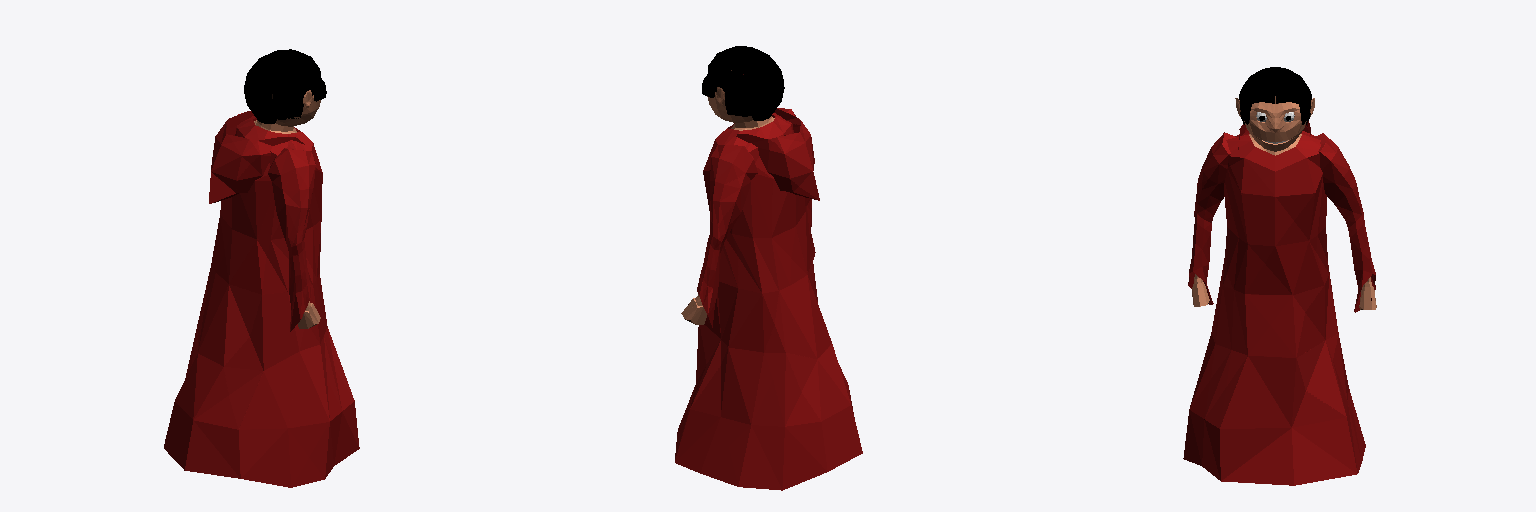
3 views of the same model, side by side, from view 1: azimuth 30°, elevation 25°; view 2: azimuth 150°, elevation 25°; view 3: azimuth 270°, elevation 25° (orthographic).
Parts seen in each view (by area): view 1: Cube.016_Cube.018; view 2: Cube.016_Cube.018; view 3: Cube.016_Cube.018.
Part boxes in pixels (x1,y1,x2,y2): Cube.016_Cube.018: (164,49,359,487); Cube.016_Cube.018: (675,46,862,490); Cube.016_Cube.018: (1183,67,1376,485).
Bounding box in the file's own units: 2.93 × 6.68 × 2.95.
1 materials, 1 textured.